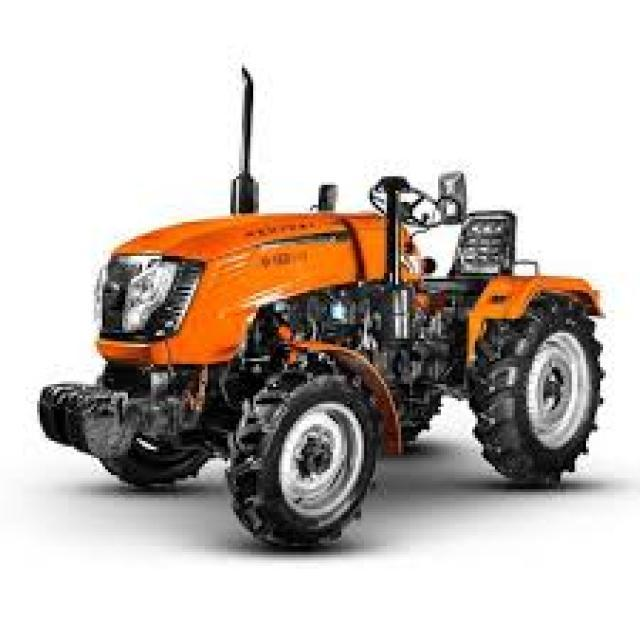Tratores - v5 YOLO V8L 2024-11-13: (91, 170, 606, 550)
